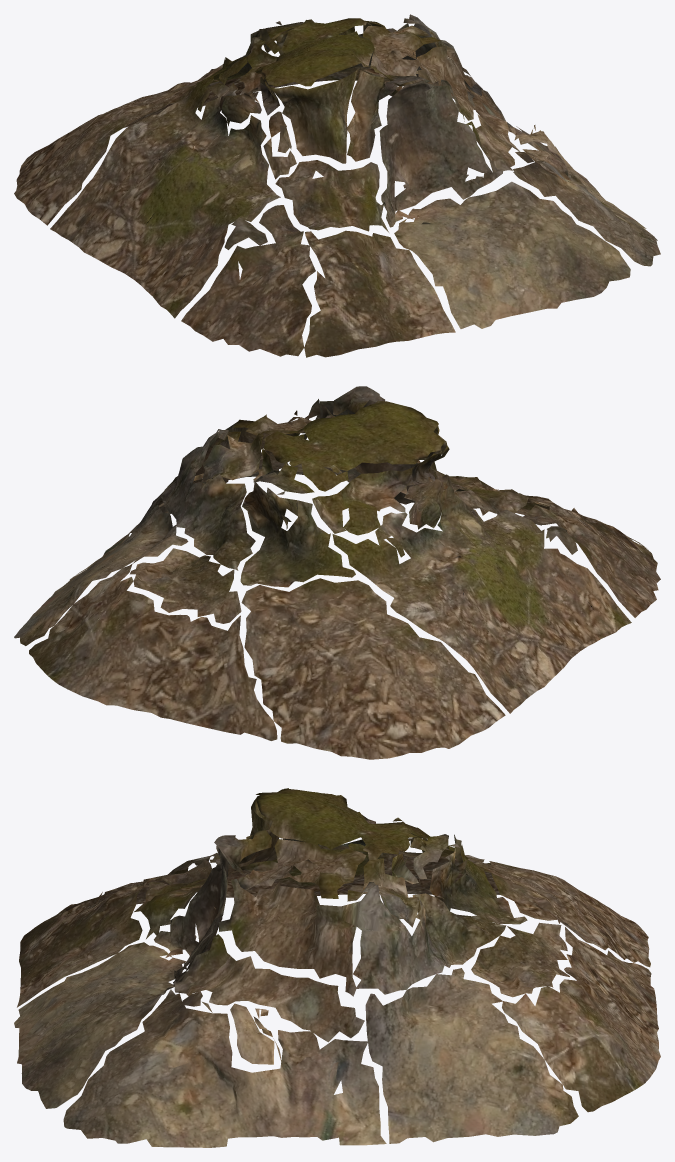
Rendered from stump.glb.
3 renders of one model, top to bottom at view 1: azimuth 30°, elevation 25°; view 2: azimuth 150°, elevation 25°; view 3: azimuth 270°, elevation 25°, orthographic. The views are drawn at different scales.
Visible parts, largest first — view 1: tree_stump_01; view 2: tree_stump_01; view 3: tree_stump_01.
Boxes of the visible parts, left/top/right/bottom form: tree_stump_01: left=14, top=14, right=660, bottom=357; tree_stump_01: left=14, top=386, right=660, bottom=759; tree_stump_01: left=14, top=788, right=660, bottom=1147.
Bounding box in the file's own units: 1.42 × 0.5691 × 1.59.
Materials: 1 (1 with a texture image).
